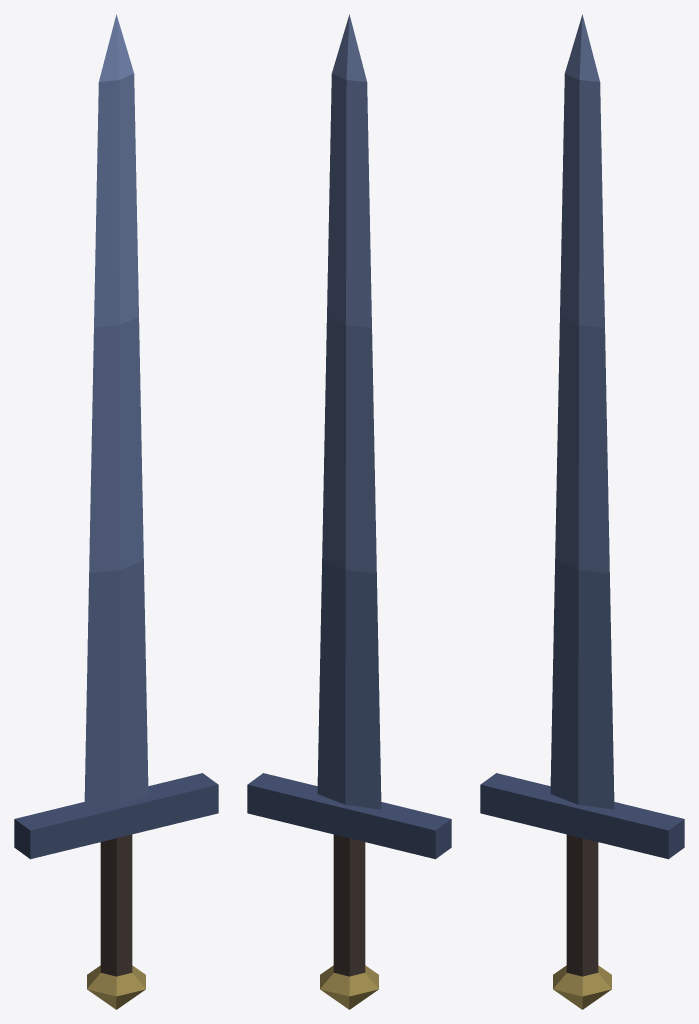
The model's file is sword_arming_mithril_s1030.glb.
3 views of the same model, side by side, from view 1: azimuth 30°, elevation 25°; view 2: azimuth 150°, elevation 25°; view 3: azimuth 330°, elevation 25° (orthographic).
Visible parts, largest first — view 1: sword_arming_mithril_s1030; view 2: sword_arming_mithril_s1030; view 3: sword_arming_mithril_s1030.
Part boxes in pixels (x1,y1,x2,y2): sword_arming_mithril_s1030: (14,14,218,1009); sword_arming_mithril_s1030: (247,14,451,1009); sword_arming_mithril_s1030: (480,14,684,1009).
Bounding box in the file's own units: 0.178 × 0.9003 × 0.0485.
1 material, 1 textured.
